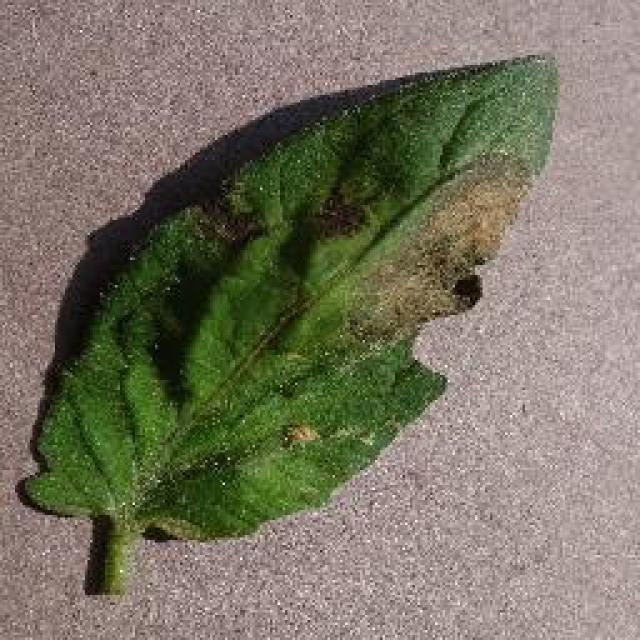Tomato late blight leaf: (18, 51, 562, 546)
